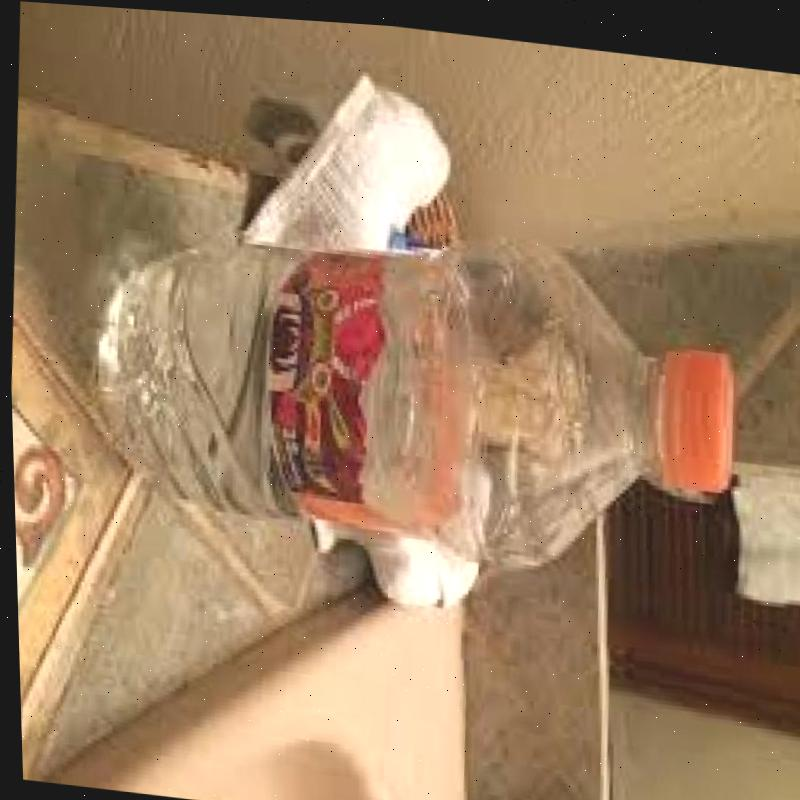botella: (82, 182, 748, 583)
